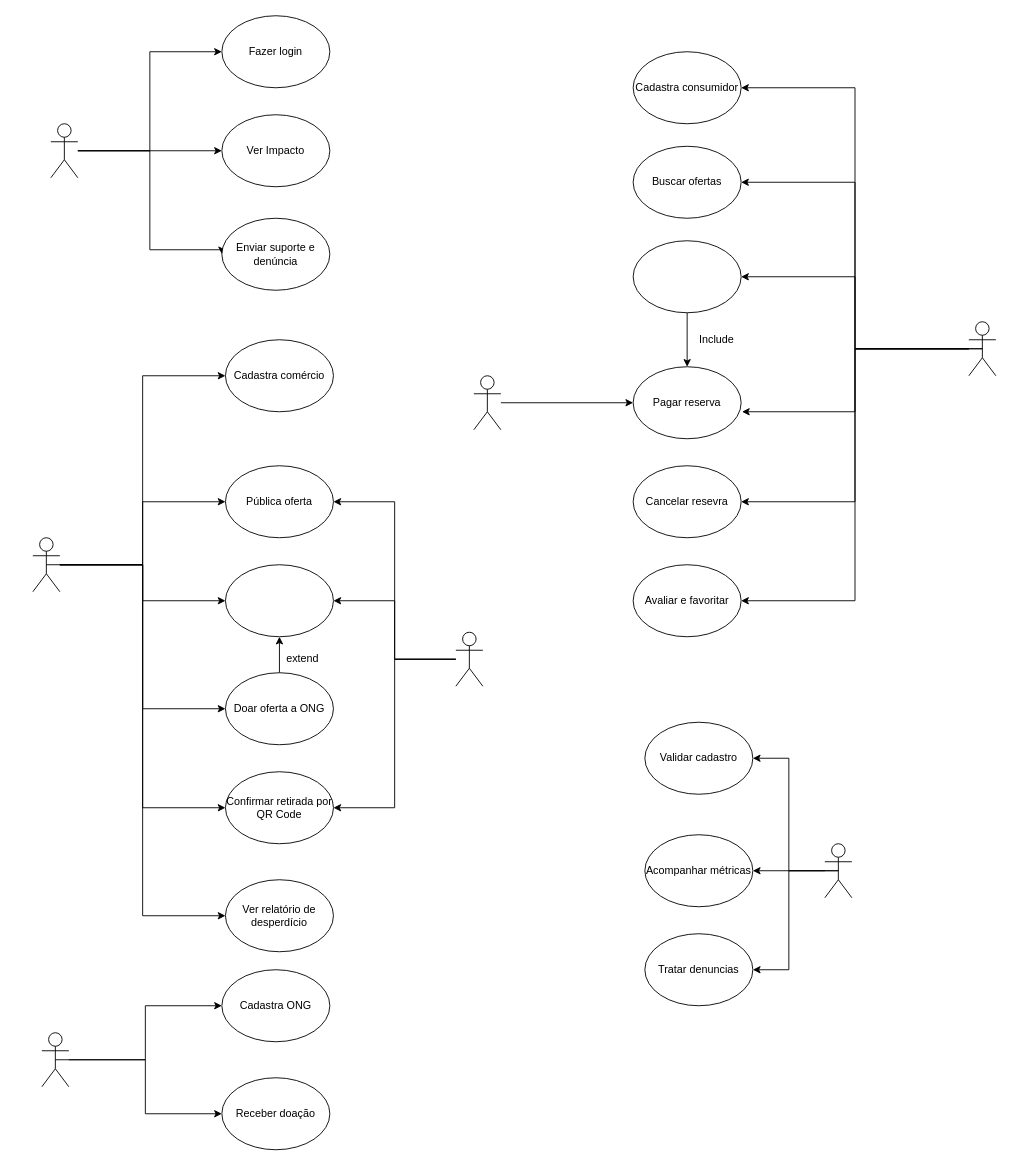
Image size: 1027x1166. Some labels were removed from this diagram. Here are the shapes that lost their labels. From the top down, the centre of each, then its label:
the point at 64,150: Usuário
the point at 686,276: Reservar oferta
the point at 982,348: Consumidor
the point at 487,402: Gateway de pagamento
the point at 46,564: Comerciante
the point at 279,600: Gerenciar ofertas
the point at 469,658: Funcionário
the point at 838,870: Admin
the point at 55,1059: ONG
